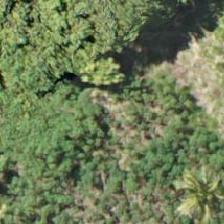coconut_tree: (158, 146, 223, 223)
